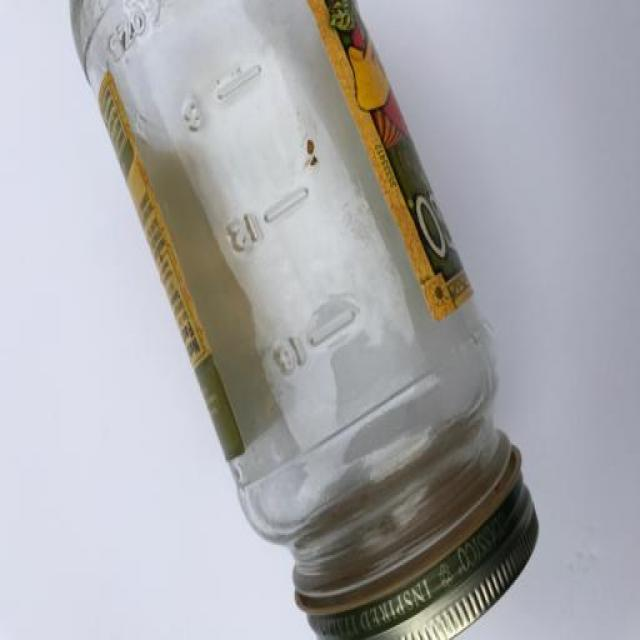glass: (66, 1, 602, 640)
